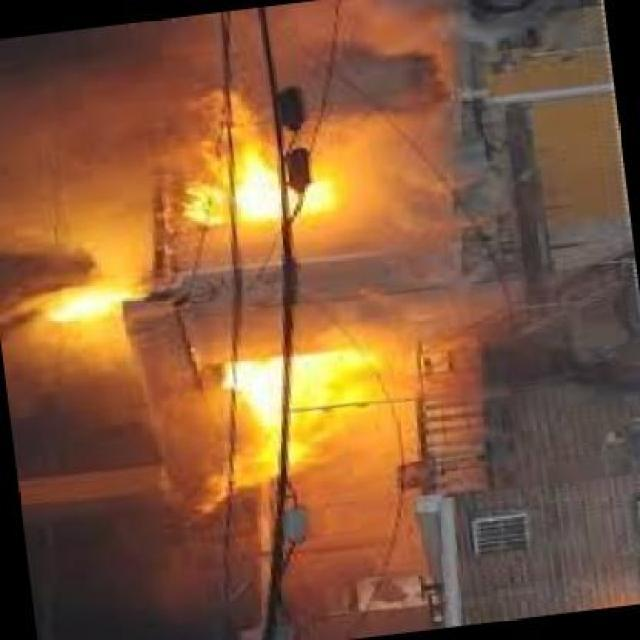Fire: (206, 347, 387, 444), (182, 140, 345, 240), (42, 274, 149, 336)
